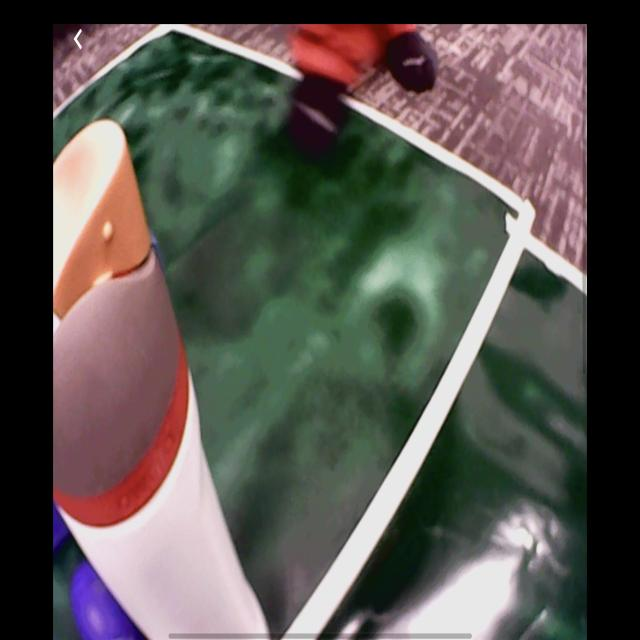ball: (70, 556, 142, 640)
